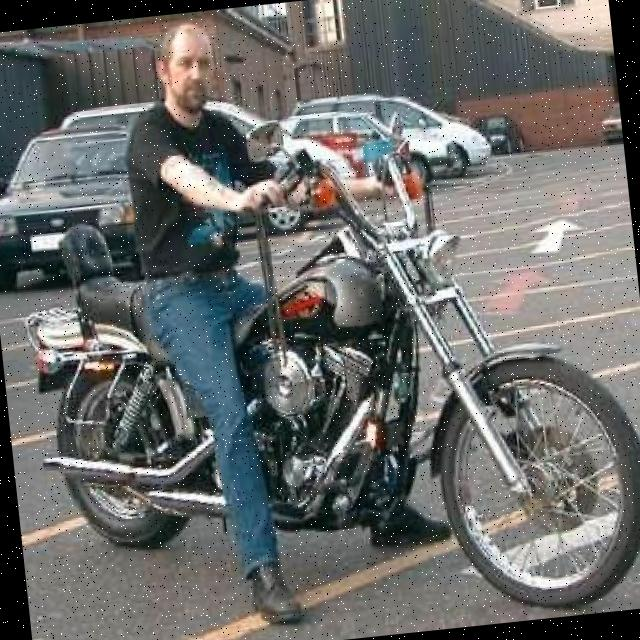No helmet: (138, 14, 232, 124)
